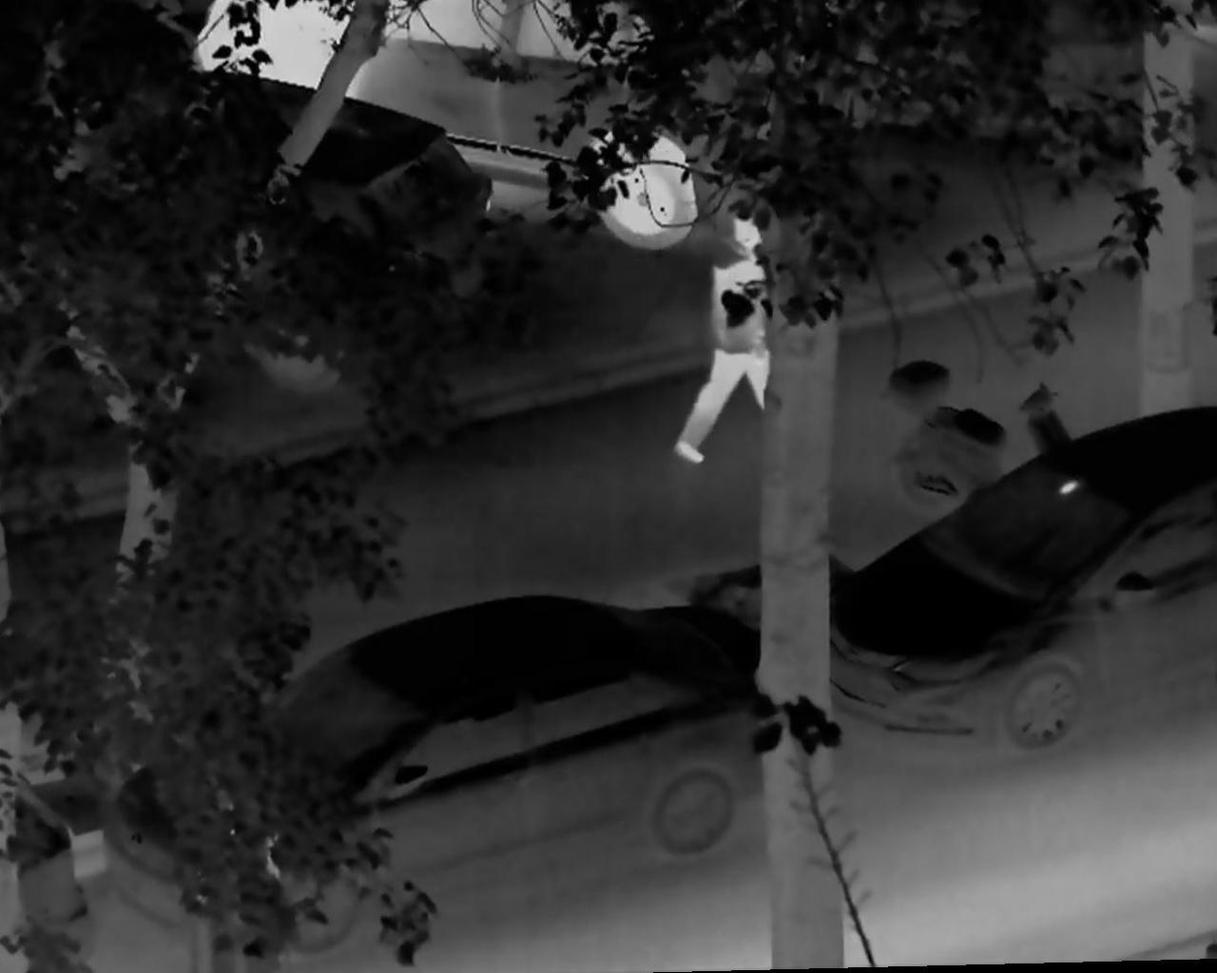person: (673, 206, 783, 466)
